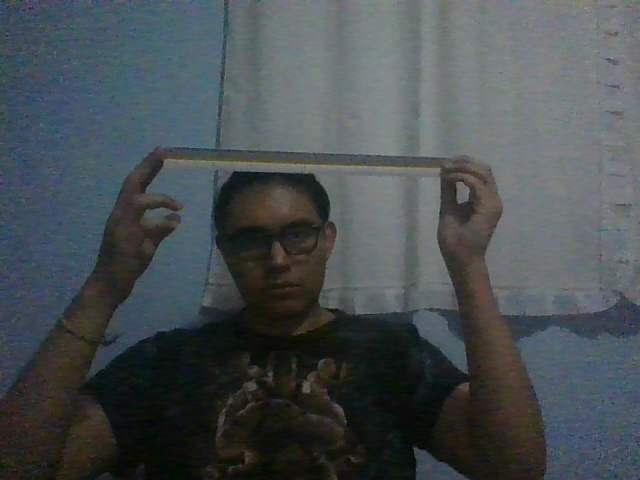regla: (162, 145, 454, 177)
